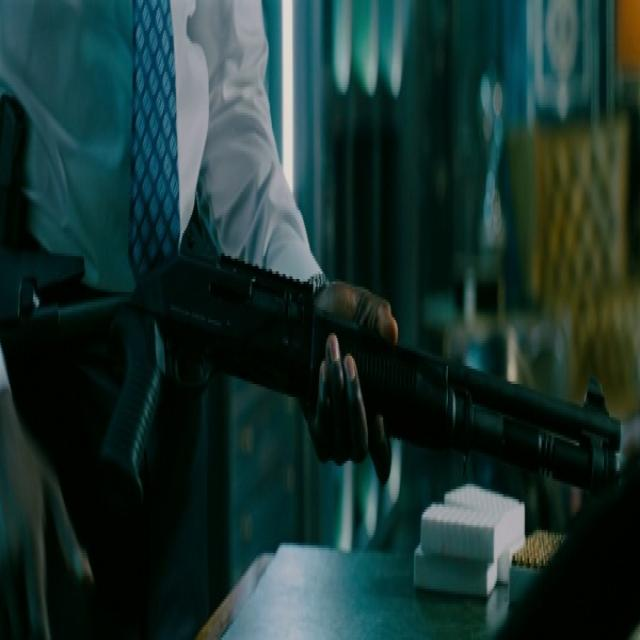rifle: (13, 227, 634, 500)
